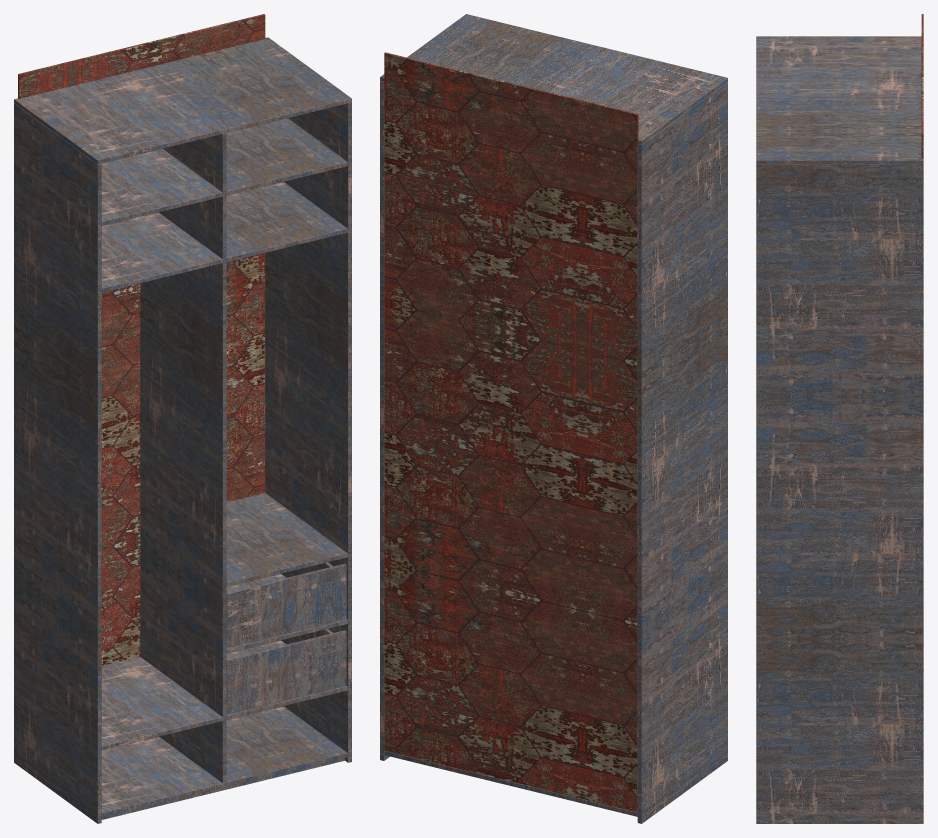
Rendered from Steelv3.gltf.
3 renders of one model, left to right at view 1: azimuth 30°, elevation 25°; view 2: azimuth 150°, elevation 25°; view 3: azimuth 270°, elevation 25°, orthographic. The views are drawn at different scales.
Parts seen in each view (by area): view 1: Korpys041, Object6230; view 2: Object6230, Korpys041; view 3: Korpys041, Object6230.
Part boxes in pixels (x1,y1,x2,y2): Korpys041: (14,37,351,823); Object6230: (18,14,265,665); Object6230: (384,52,638,812); Korpys041: (380,14,727,823); Korpys041: (756,36,923,823); Object6230: (921,14,923,158).
Size of the model in its own units: 1 by 2.58 by 0.57.
4 materials, 2 textured.
